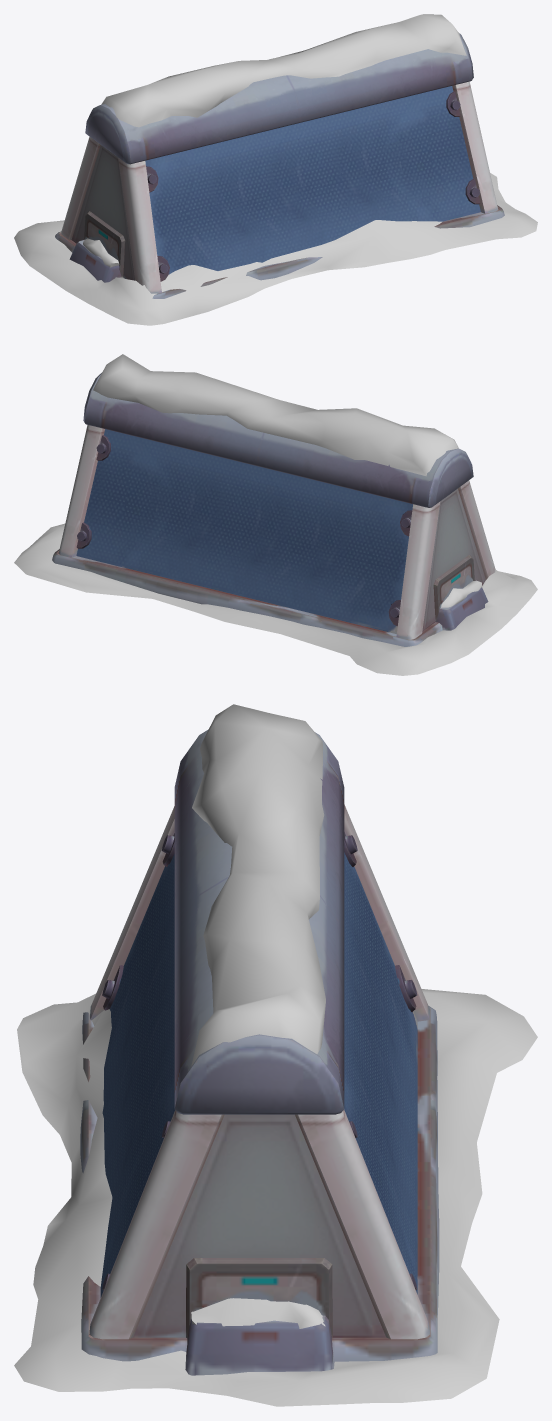
Rendered from pref_sm_city_roadblock01_snow_lv3.fbx.
3 views of the same model, one above another, from view 1: azimuth 30°, elevation 25°; view 2: azimuth 150°, elevation 25°; view 3: azimuth 270°, elevation 25° (orthographic). The views are drawn at different scales.
Visible parts, largest first — view 1: sm_city_roadblock01_snow_lv3, sm_city_roadblock01b_snow_lv3; view 2: sm_city_roadblock01_snow_lv3, sm_city_roadblock01b_snow_lv3; view 3: sm_city_roadblock01_snow_lv3, sm_city_roadblock01b_snow_lv3.
Part boxes in pixels (x1=…): sm_city_roadblock01_snow_lv3: x1=55, y1=33, x2=504, y2=298; sm_city_roadblock01b_snow_lv3: x1=14, y1=14, x2=537, y2=325; sm_city_roadblock01_snow_lv3: x1=52, y1=373, x2=495, y2=646; sm_city_roadblock01b_snow_lv3: x1=14, y1=354, x2=537, y2=675; sm_city_roadblock01_snow_lv3: x1=80, y1=729, x2=439, y2=1375; sm_city_roadblock01b_snow_lv3: x1=14, y1=704, x2=537, y2=1406.
Size of the model in its own units: 4.52 by 1.79 by 2.4.
